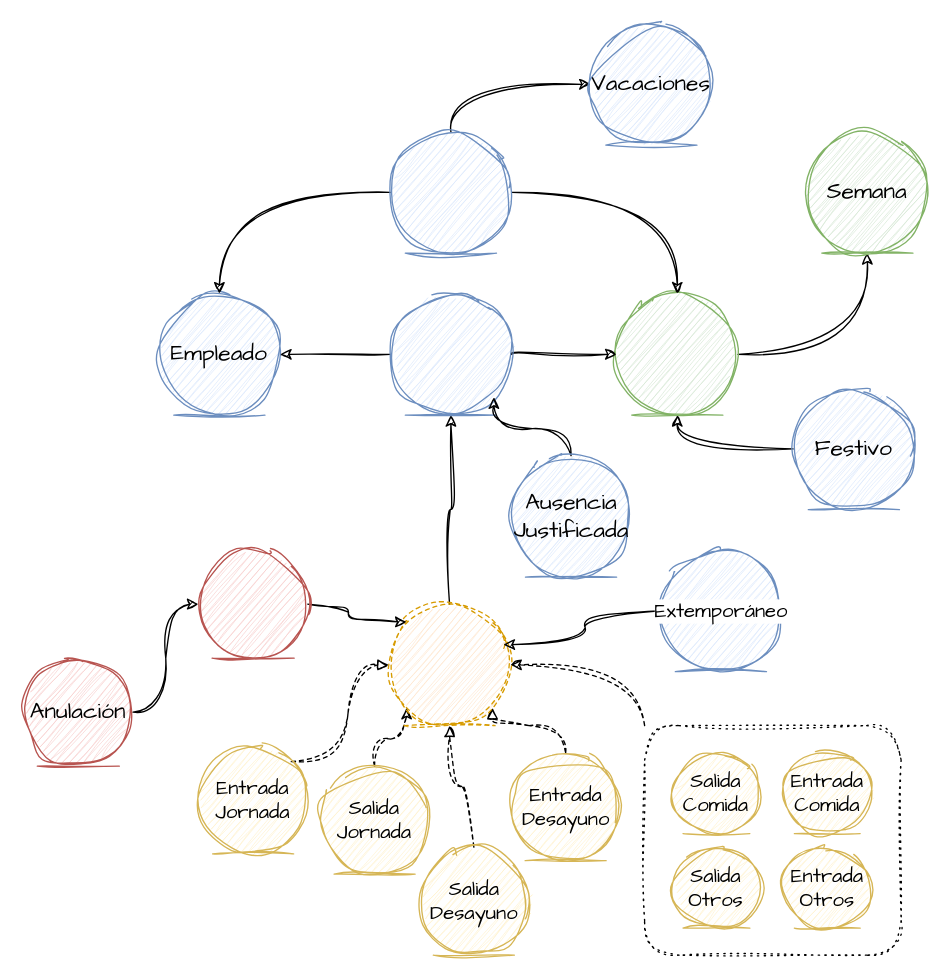
Image size: 952x979. Some labels were removed from this diagram. Each missing label, with the box of its shape:
Dia: (615, 292, 738, 415)
Dia libre: (389, 130, 512, 253)
Fichaje: (387, 603, 510, 726)
Jornada Empleado: (389, 292, 512, 415)
Solicitud Anualción: (197, 549, 308, 658)
